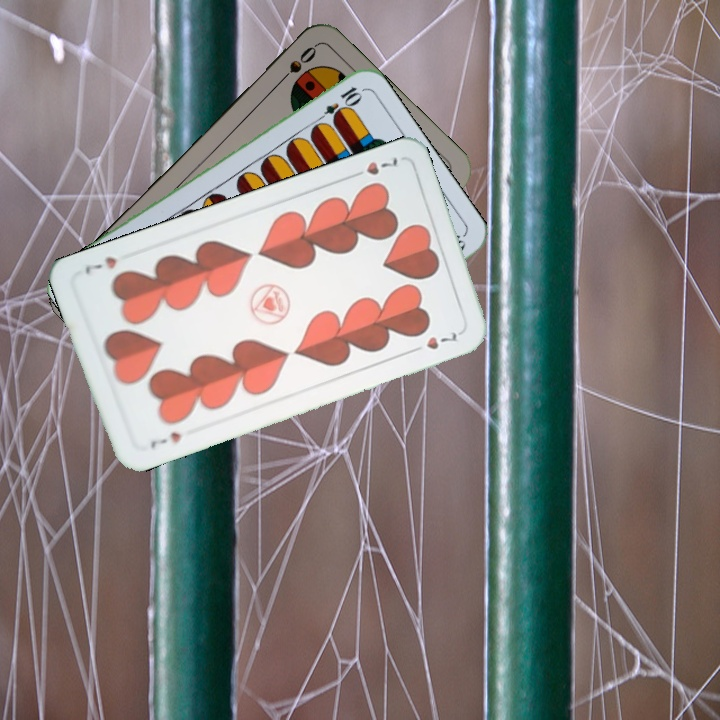E10: (311, 82, 364, 127)
H7: (346, 152, 402, 181), (146, 428, 184, 452)
SO: (272, 42, 319, 89)
